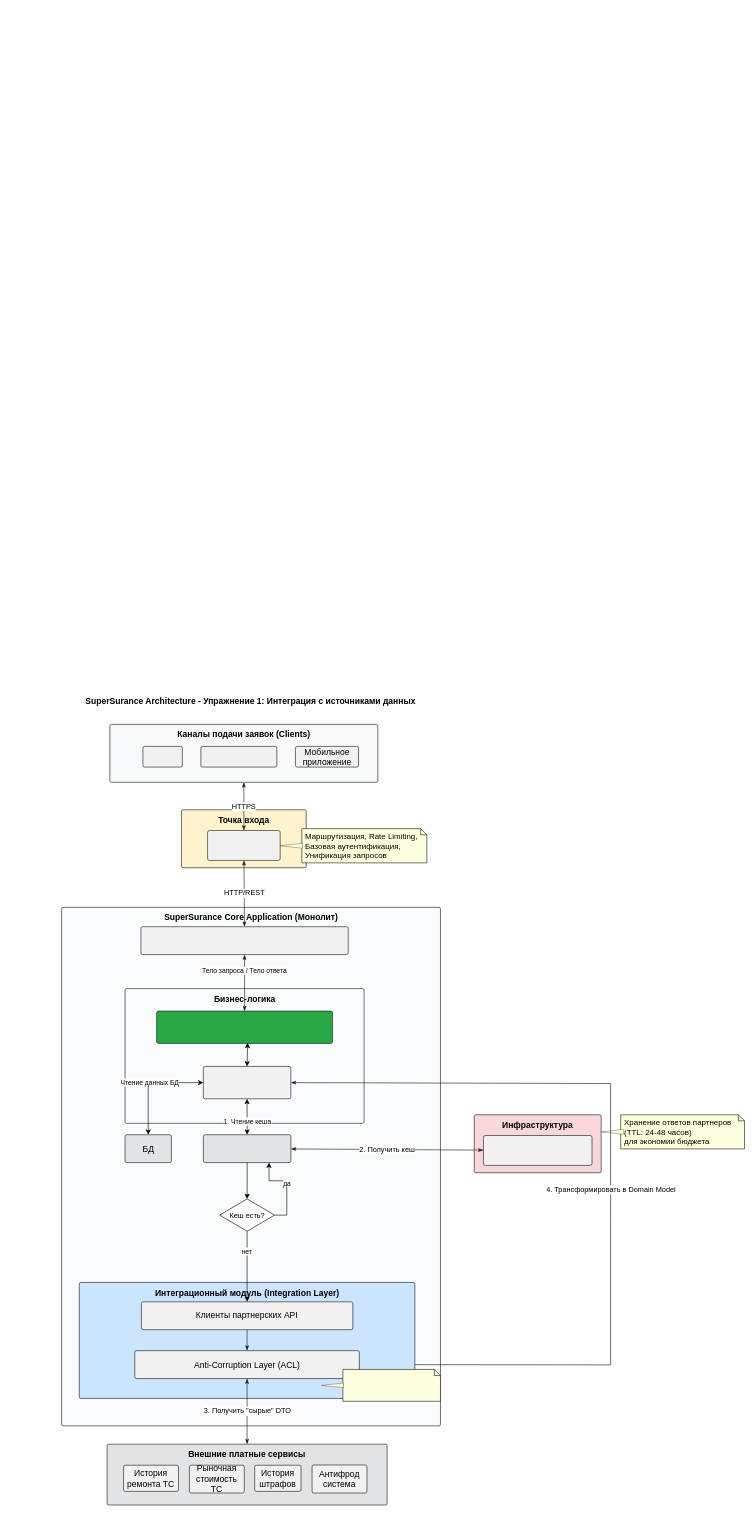
Some shapes in this 755 by 1516 pixel diagram are drawn without their labels. Here are the shapes that lost their labels. From the top down, the centre of each, then its label:
At point (162, 756): "Сайт".
At point (238, 756): "Партнерская сеть продаж".
At point (243, 845): "API Gateway".
At point (244, 940): "API Layer / Контроллеры".
At point (244, 1026): "Движок расчета премий".
At point (247, 1082): "Внутренняя модель данных".
At point (247, 1148): "Менеджер кэша".
At point (537, 1150): "Распределенный кэш (Redis / Memcached)".
At point (391, 1385): "Изоляция контекста: Маппинг внешних DTO во внутренние модели".
